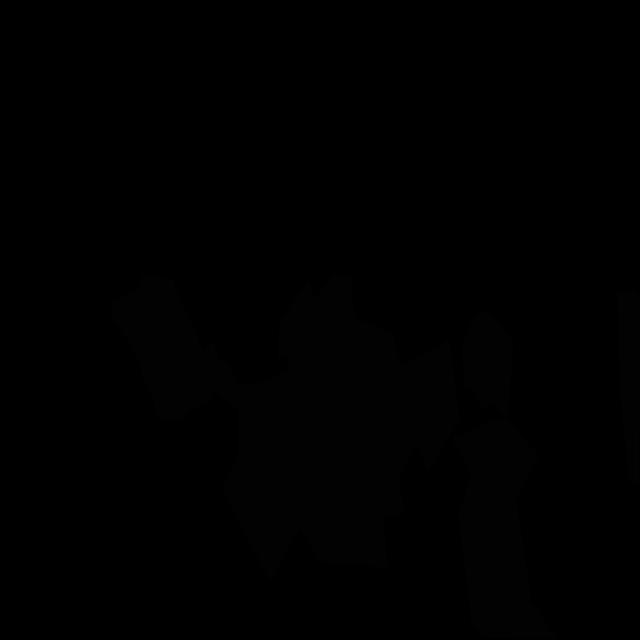cardboard: (222, 274, 460, 582), (452, 419, 557, 639), (110, 275, 239, 421), (462, 308, 514, 419), (617, 289, 640, 485)
